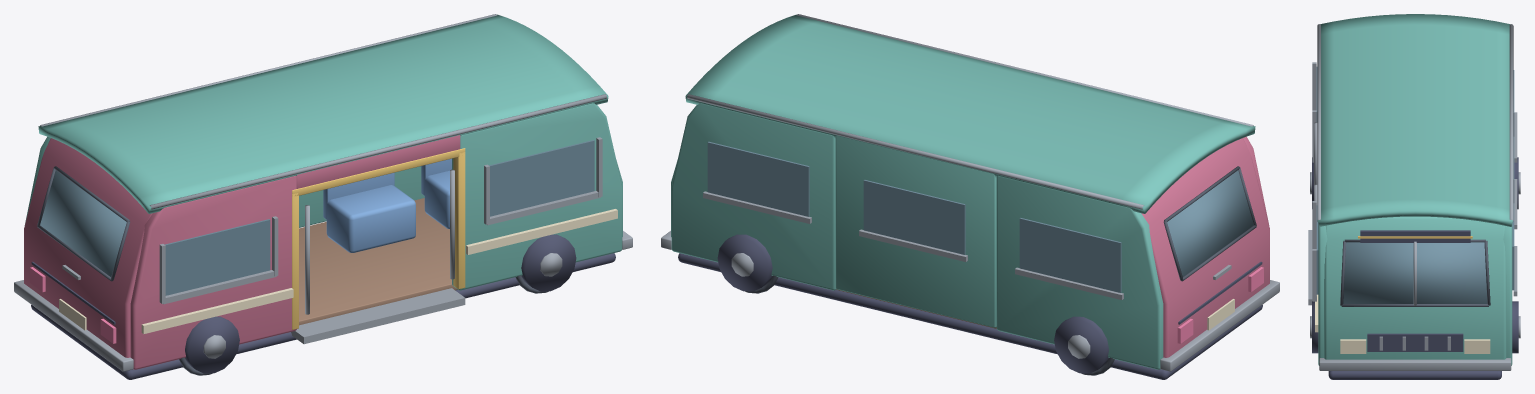
The model's file is FestivalShuttle.fbx.
3 views of the same model, side by side, from view 1: azimuth 30°, elevation 25°; view 2: azimuth 150°, elevation 25°; view 3: azimuth 270°, elevation 25° (orthographic). The views are drawn at different scales.
Parts seen in each view (by area): view 1: FestivalShuttle PaintMint__PaintMint, FestivalShuttle PaintRose__PaintRose, FestivalShuttle AutoGlass__AutoGlass, FestivalShuttle Metal__Metal, FestivalShuttle Wood__Wood, FestivalShuttle Blue__Blue, FestivalShuttle Dark__Dark, FestivalShuttle Gold__Gold, FestivalShuttle Cream__Cream, FestivalShuttle Rubber__Rubber, FestivalShuttle Rose__Rose; view 2: FestivalShuttle PaintMint__PaintMint, FestivalShuttle AutoGlass__AutoGlass, FestivalShuttle PaintRose__PaintRose, FestivalShuttle Metal__Metal, FestivalShuttle Dark__Dark, FestivalShuttle Rubber__Rubber, FestivalShuttle Rose__Rose; view 3: FestivalShuttle PaintMint__PaintMint, FestivalShuttle AutoGlass__AutoGlass, FestivalShuttle Metal__Metal, FestivalShuttle Dark__Dark, FestivalShuttle Rubber__Rubber, FestivalShuttle Cream__Cream, FestivalShuttle Gold__Gold.
Part boxes in pixels (x1=…): FestivalShuttle PaintMint__PaintMint: x1=24, y1=14, x2=622, y2=290; FestivalShuttle PaintRose__PaintRose: x1=24, y1=135, x2=460, y2=369; FestivalShuttle AutoGlass__AutoGlass: x1=40, y1=140, x2=594, y2=295; FestivalShuttle Metal__Metal: x1=14, y1=14, x2=632, y2=371; FestivalShuttle Wood__Wood: x1=299, y1=198, x2=457, y2=325; FestivalShuttle Blue__Blue: x1=323, y1=158, x2=451, y2=252; FestivalShuttle Dark__Dark: x1=31, y1=234, x2=615, y2=379; FestivalShuttle Gold__Gold: x1=292, y1=148, x2=465, y2=329; FestivalShuttle Cream__Cream: x1=59, y1=209, x2=617, y2=333; FestivalShuttle Rubber__Rubber: x1=37, y1=166, x2=548, y2=375; FestivalShuttle Rose__Rose: x1=30, y1=267, x2=116, y2=343; FestivalShuttle PaintMint__PaintMint: x1=671, y1=14, x2=1255, y2=369; FestivalShuttle AutoGlass__AutoGlass: x1=707, y1=141, x2=1253, y2=292; FestivalShuttle PaintRose__PaintRose: x1=1141, y1=136, x2=1269, y2=357; FestivalShuttle Metal__Metal: x1=661, y1=14, x2=1279, y2=371; FestivalShuttle Dark__Dark: x1=678, y1=234, x2=1262, y2=379; FestivalShuttle Rubber__Rubber: x1=745, y1=166, x2=1256, y2=375; FestivalShuttle Rose__Rose: x1=1177, y1=267, x2=1263, y2=343; FestivalShuttle PaintMint__PaintMint: x1=1317, y1=14, x2=1512, y2=365; FestivalShuttle AutoGlass__AutoGlass: x1=1316, y1=67, x2=1514, y2=303; FestivalShuttle Metal__Metal: x1=1308, y1=24, x2=1520, y2=370; FestivalShuttle Dark__Dark: x1=1312, y1=157, x2=1518, y2=379; FestivalShuttle Rubber__Rubber: x1=1340, y1=239, x2=1490, y2=306; FestivalShuttle Cream__Cream: x1=1315, y1=294, x2=1490, y2=353; FestivalShuttle Gold__Gold: x1=1358, y1=236, x2=1472, y2=238.
Bounding box in the file's own units: 834 × 306 × 343.
